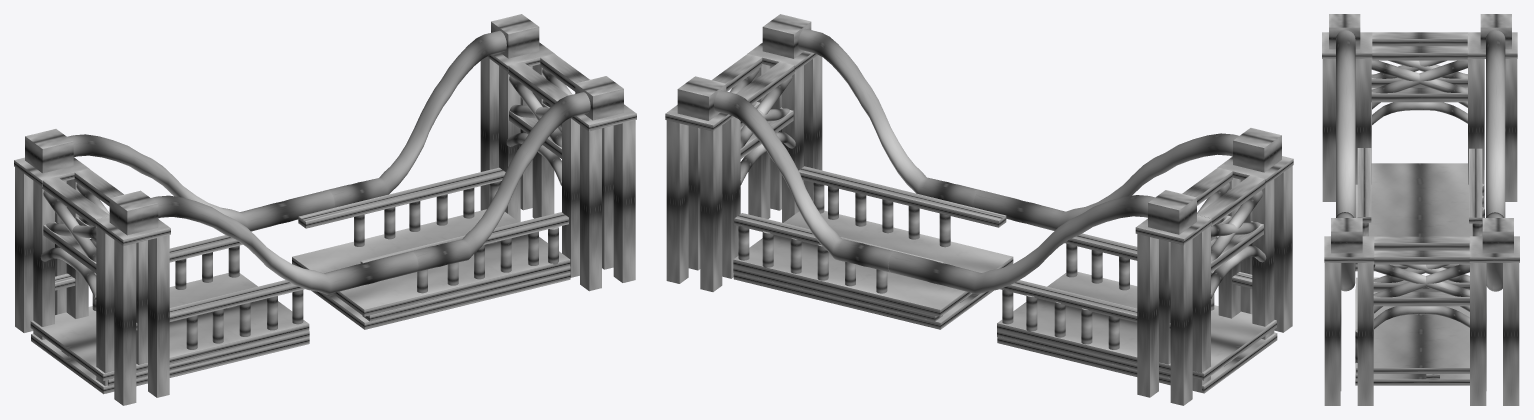
The model's file is Shaky Bridge.fbx.
3 views of the same model, side by side, from view 1: azimuth 30°, elevation 25°; view 2: azimuth 150°, elevation 25°; view 3: azimuth 270°, elevation 25° (orthographic). The views are drawn at different scales.
Visible parts, largest first — view 1: pCylinder42; view 2: pCylinder42; view 3: pCylinder42.
Part boxes in pixels (x1,y1,x2,y2): pCylinder42: (14, 14, 636, 405); pCylinder42: (665, 14, 1293, 405); pCylinder42: (1322, 14, 1519, 405).
Bounding box in the file's own units: 323 × 114 × 120.
Materials: 1 (1 with a texture image).
